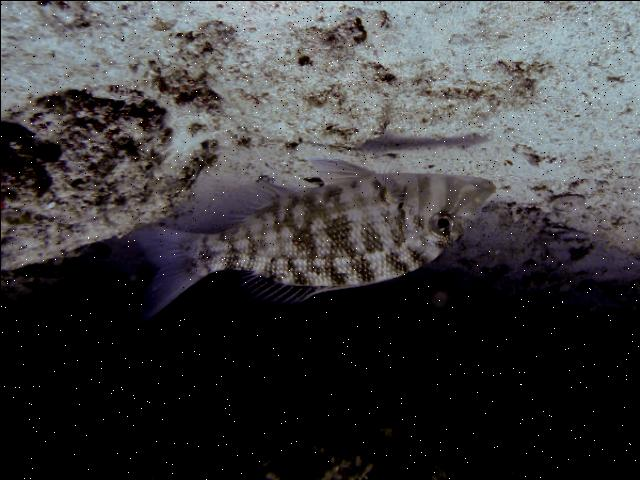Mulut: (440, 155, 502, 205)
Sirip Anal: (215, 166, 283, 234)
Sirip Dada: (381, 153, 423, 218)
Sirip Ekor: (119, 206, 209, 330)
Sirip Perut: (300, 151, 368, 187)
Sirip Punggung: (222, 266, 324, 318)
